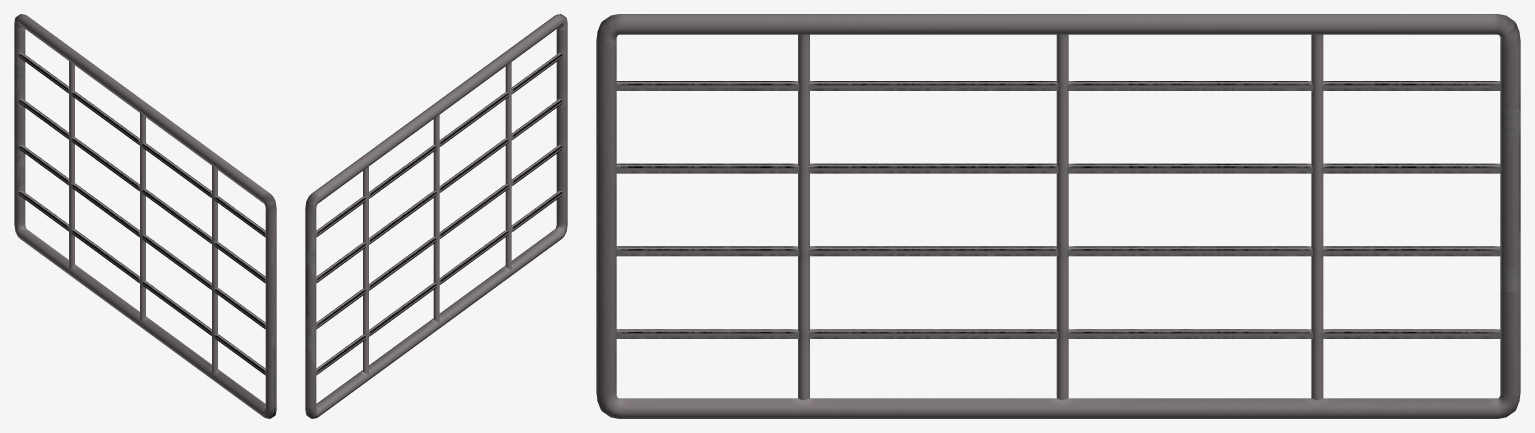
File: LargeFenceGate_low.fbx
3 renders of one model, left to right at view 1: azimuth 30°, elevation 25°; view 2: azimuth 150°, elevation 25°; view 3: azimuth 270°, elevation 25°, orthographic. The views are drawn at different scales.
Parts seen in each view (by area): view 1: LargeFenceGate_low; view 2: LargeFenceGate_low; view 3: LargeFenceGate_low.
Boxes of the visible parts, x1,y1,x2,y2 form: LargeFenceGate_low: (14, 14, 276, 418); LargeFenceGate_low: (305, 14, 567, 418); LargeFenceGate_low: (596, 14, 1520, 418).
Bounding box in the file's own units: 0.0526 × 1.16 × 2.4.
